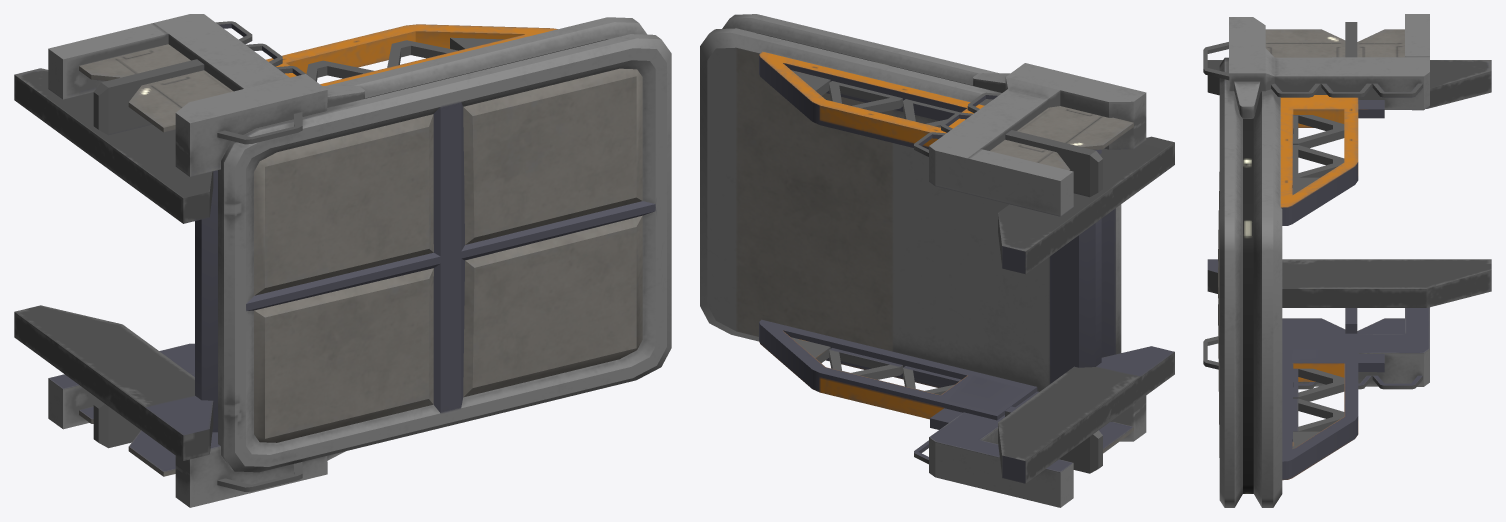
The model's file is Pfb_Soda_levle2_2_boss_platfrom.fbx.
The picture shows the model from 3 angles, left to right: view 1: azimuth 30°, elevation 25°; view 2: azimuth 150°, elevation 25°; view 3: azimuth 270°, elevation 25°; orthographic projection. The views are drawn at different scales.
Visible parts, largest first — view 1: elevator; view 2: elevator; view 3: elevator.
Part boxes in pixels (bbox=[...]): elevator: bbox=[14, 14, 671, 507]; elevator: bbox=[700, 14, 1174, 507]; elevator: bbox=[1203, 14, 1491, 507].
Size of the model in its own units: 7.08 by 5.19 by 4.2.
1 material, 1 textured.
